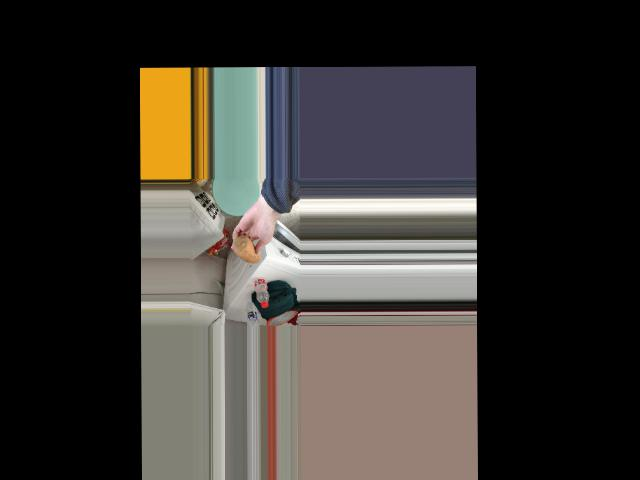sweet_potato: (236, 231, 263, 263)
